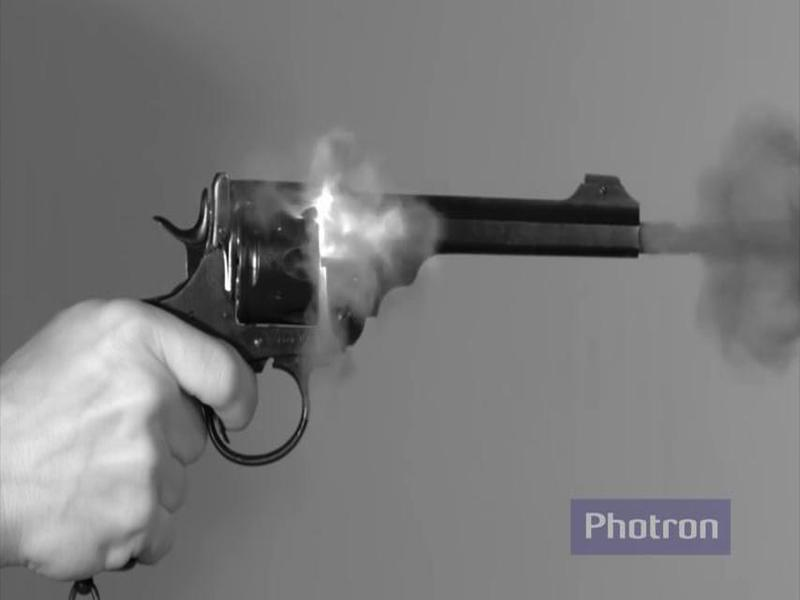Revolver: (112, 134, 665, 492)
